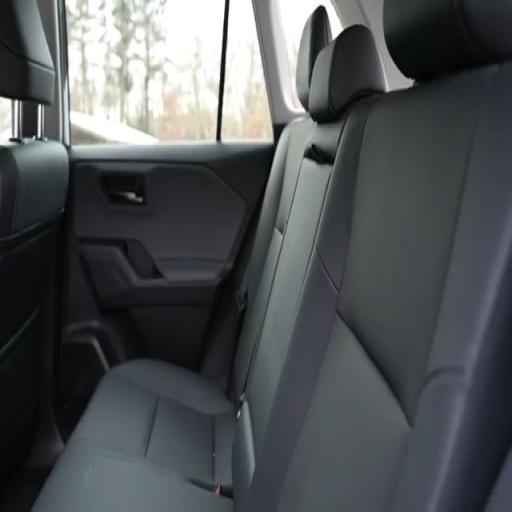window: (66, 0, 271, 143), (279, 0, 342, 109)
